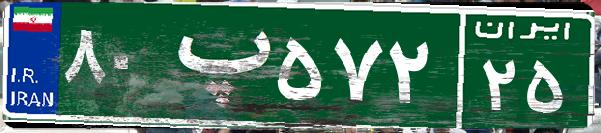0: (110, 28, 158, 105)
2: (385, 28, 445, 110), (475, 38, 525, 113)
5: (273, 28, 330, 110), (525, 38, 570, 115)
7: (330, 28, 385, 110)
8: (57, 26, 110, 107)
پ: (158, 15, 273, 115)
